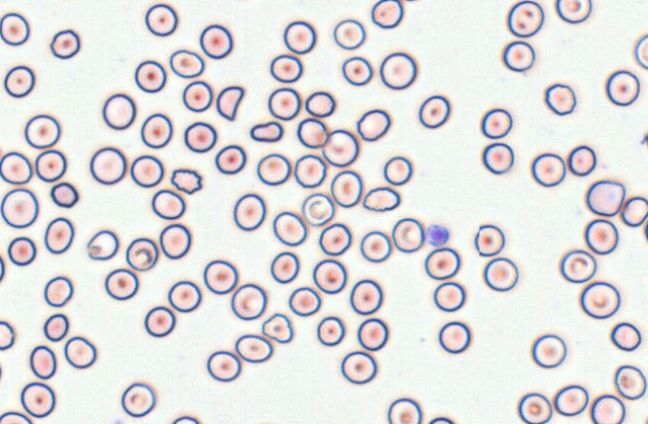PLT: (426, 221, 448, 248)
RBC: (579, 281, 620, 319), (0, 188, 38, 228), (379, 51, 417, 90), (585, 179, 625, 216), (89, 146, 126, 185), (506, 0, 544, 37), (321, 129, 358, 167), (230, 283, 267, 320), (24, 113, 60, 149), (20, 381, 55, 418), (605, 69, 640, 106), (232, 193, 266, 231), (272, 210, 307, 246), (312, 258, 347, 294), (482, 256, 518, 291), (583, 218, 618, 254), (530, 333, 566, 368), (530, 152, 566, 187), (102, 93, 136, 130), (340, 350, 377, 384), (559, 249, 596, 283), (330, 169, 363, 207), (203, 259, 238, 294), (120, 382, 155, 417), (424, 246, 460, 280), (349, 278, 382, 315), (199, 24, 233, 59), (613, 364, 646, 400), (391, 217, 424, 253), (234, 333, 273, 363), (293, 153, 326, 188), (356, 108, 391, 141), (159, 223, 191, 259), (140, 112, 172, 148), (301, 192, 334, 226), (63, 335, 96, 369), (318, 222, 351, 256), (438, 320, 471, 354), (125, 237, 158, 271), (144, 3, 178, 36), (283, 20, 316, 54), (206, 350, 241, 382), (553, 384, 588, 416), (516, 392, 552, 423), (44, 217, 74, 254), (130, 154, 163, 187), (267, 87, 300, 120), (167, 280, 201, 312), (183, 121, 217, 153), (356, 317, 388, 351), (256, 153, 290, 185), (104, 268, 138, 300), (134, 59, 166, 93), (3, 64, 35, 98), (501, 40, 535, 72), (418, 94, 450, 128), (589, 393, 625, 423), (0, 151, 32, 184), (34, 149, 66, 182), (481, 142, 514, 174), (544, 82, 576, 115), (151, 188, 185, 219), (169, 48, 204, 78), (359, 230, 391, 262), (333, 18, 365, 50), (480, 107, 512, 139), (474, 223, 505, 256), (0, 12, 30, 46), (144, 305, 175, 337), (296, 117, 328, 148), (182, 80, 213, 112), (433, 281, 465, 312), (288, 286, 321, 316), (269, 53, 302, 83), (362, 186, 400, 212), (49, 28, 80, 59), (214, 144, 246, 174), (43, 275, 73, 307), (609, 321, 641, 351), (341, 56, 373, 86), (270, 251, 299, 283), (567, 144, 596, 176), (370, 0, 403, 28), (29, 345, 56, 379), (387, 397, 422, 423), (316, 315, 345, 346), (7, 236, 36, 266), (383, 155, 412, 185), (170, 167, 202, 194), (620, 195, 647, 227), (304, 90, 335, 117), (555, 0, 591, 23), (49, 181, 78, 208), (43, 313, 69, 342), (634, 33, 647, 69), (0, 320, 15, 350), (0, 411, 32, 423), (171, 415, 200, 423), (427, 416, 455, 423), (642, 217, 648, 244), (640, 128, 647, 151), (0, 254, 5, 282), (0, 360, 4, 384)
Schistocyte: (216, 85, 246, 121), (87, 228, 118, 261), (262, 313, 293, 344), (248, 121, 283, 143)
